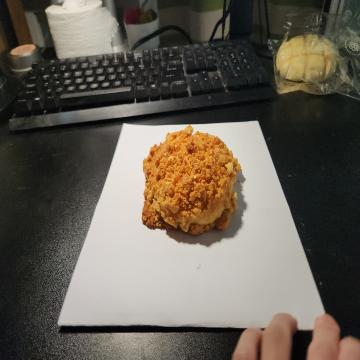soboru_bread: (140, 126, 236, 237)
